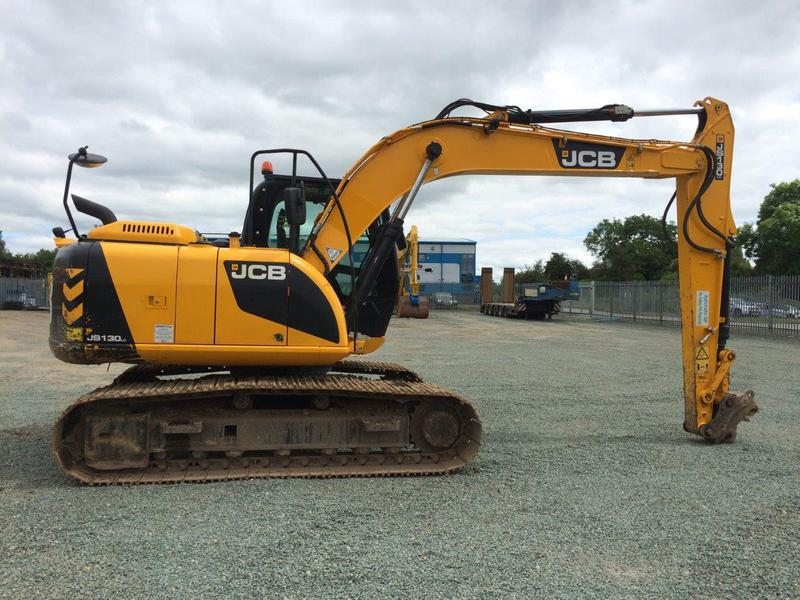shovel: (47, 83, 761, 487)
